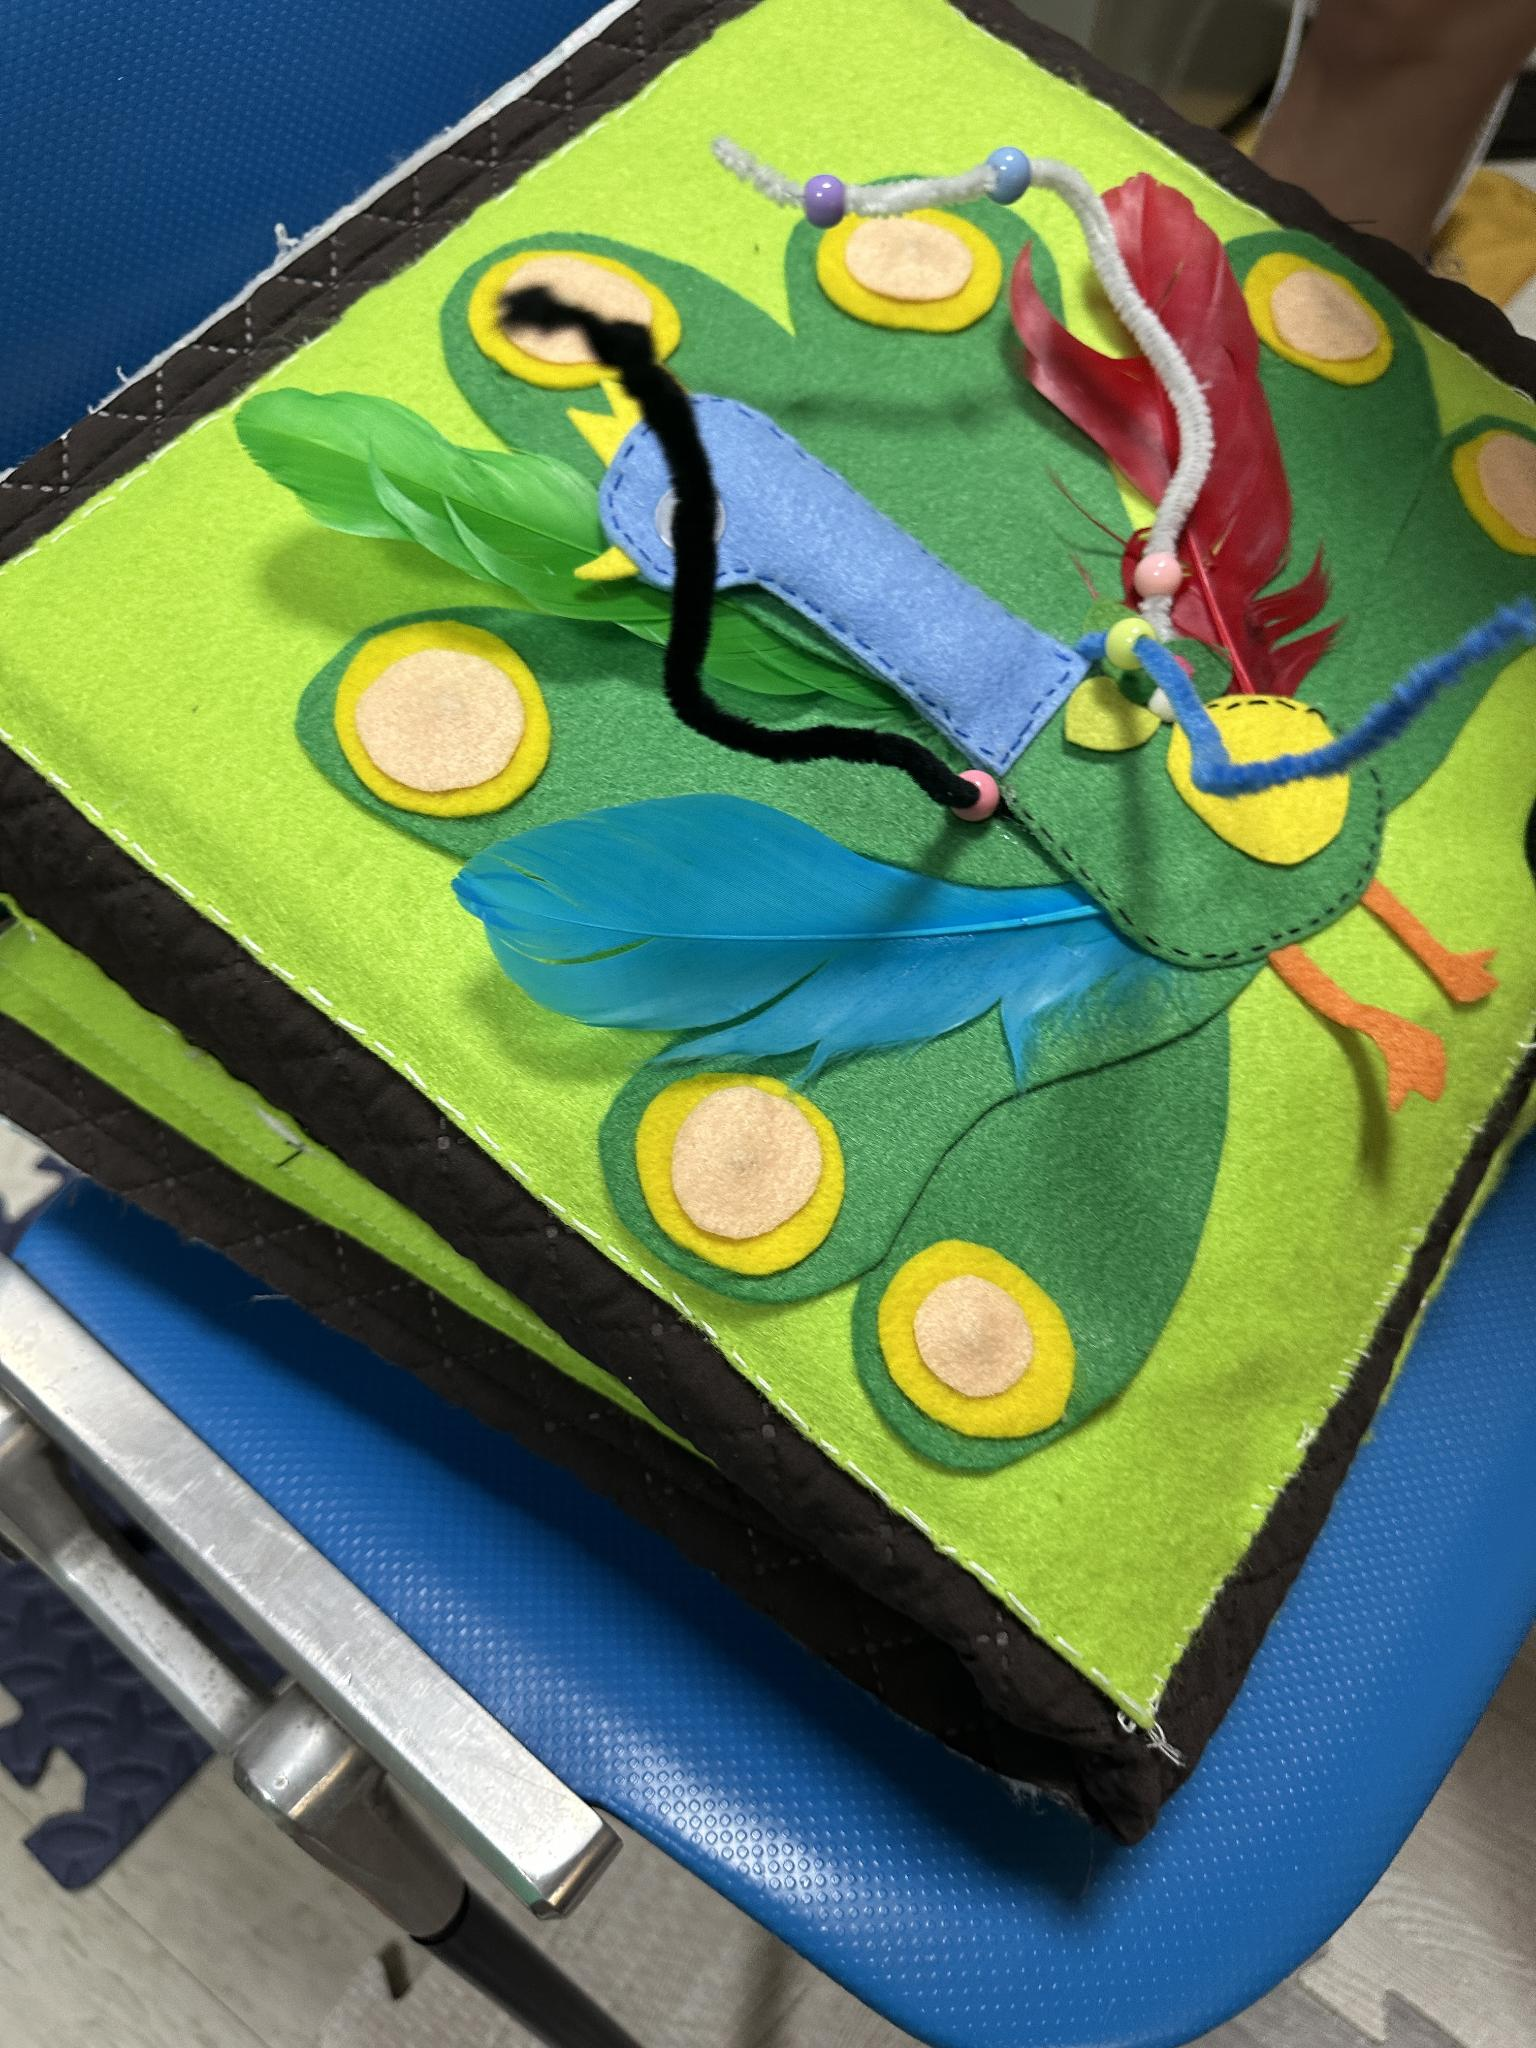bead: (939, 719, 1034, 832), (984, 124, 1050, 211), (1097, 606, 1170, 685), (787, 145, 849, 232), (1128, 535, 1165, 601)
